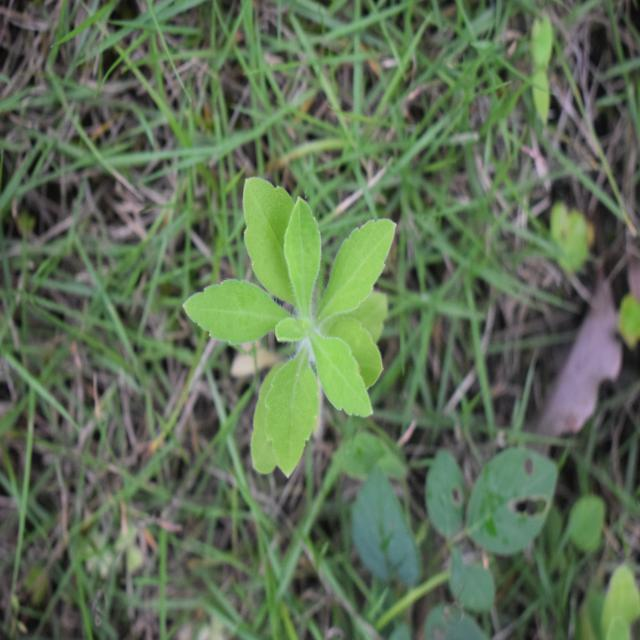horseweed: (224, 170, 391, 477)
